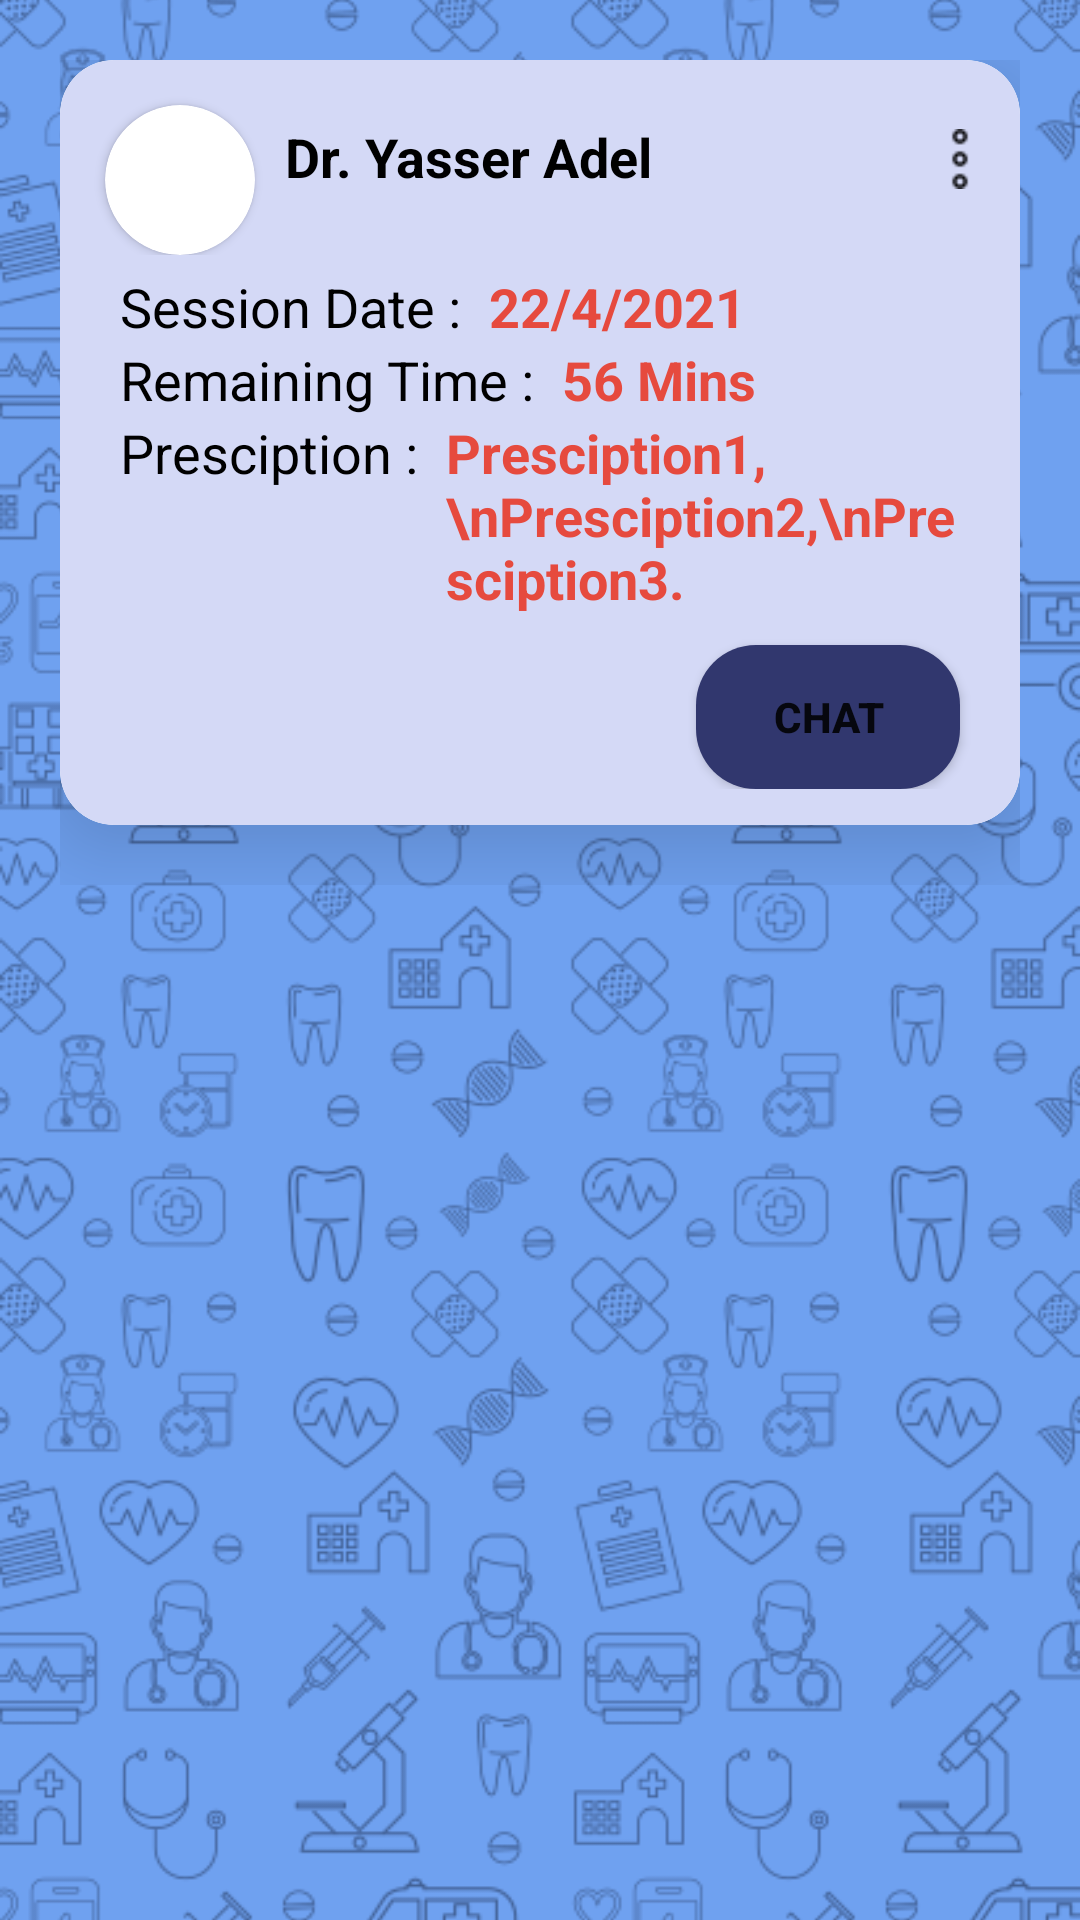

Locate icon controls on the screen. Image size 1080px x 1920px, boxes as (x1, y1, x2, y2).
more: (952, 129, 968, 189)
